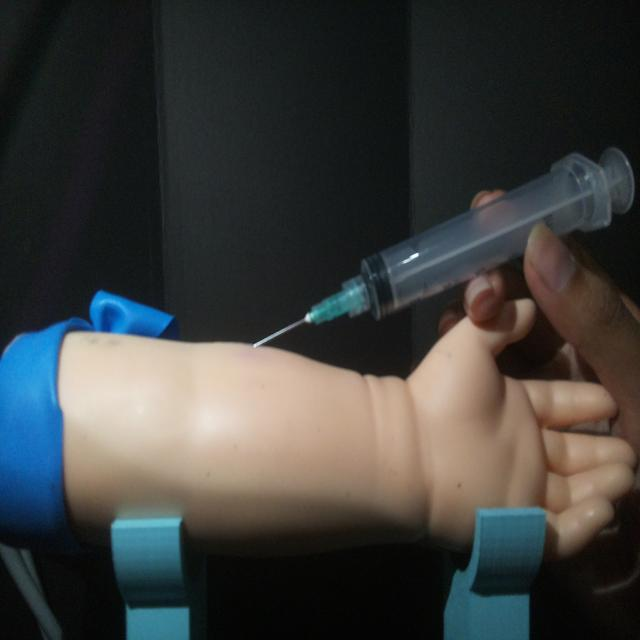25deg: (248, 140, 635, 352)
